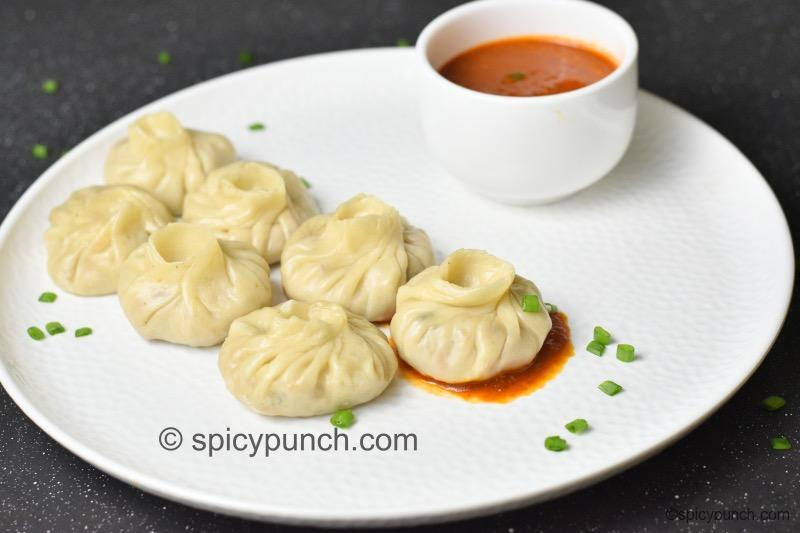momos: (391, 248, 552, 383), (219, 300, 397, 416), (281, 194, 434, 322), (117, 223, 270, 347), (281, 194, 408, 320), (44, 186, 173, 295), (183, 161, 319, 263), (105, 112, 236, 216)
